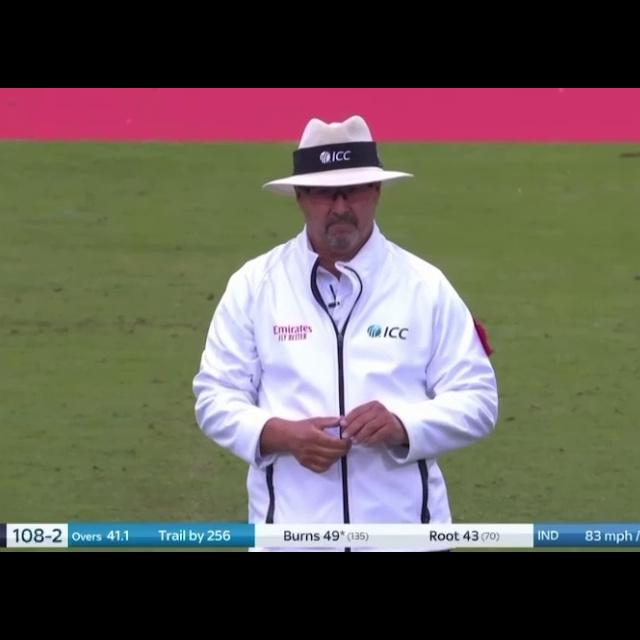umpire: (188, 106, 495, 529)
